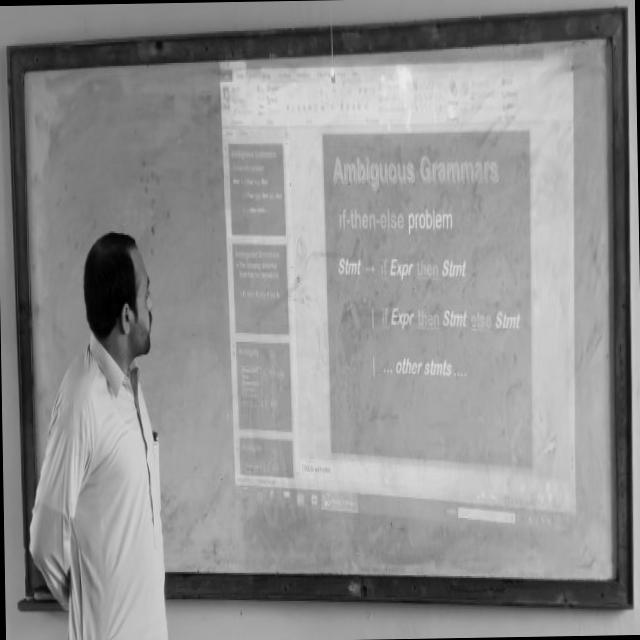Instructor: (57, 230, 167, 632)
Slide: (220, 47, 575, 541)
White-board: (17, 25, 625, 591)
